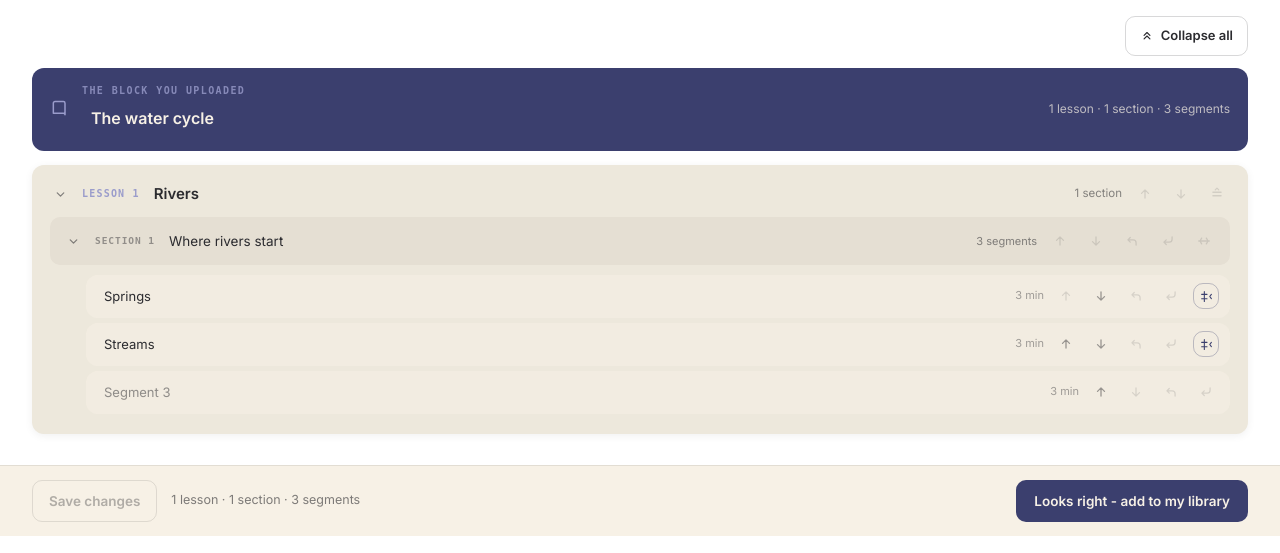
Test: the unit's own title (T73) › comes back with an undo
Replace the text in the field named "Unit title" with "Water on the move" at (559, 118), box [82,100,1037,136]
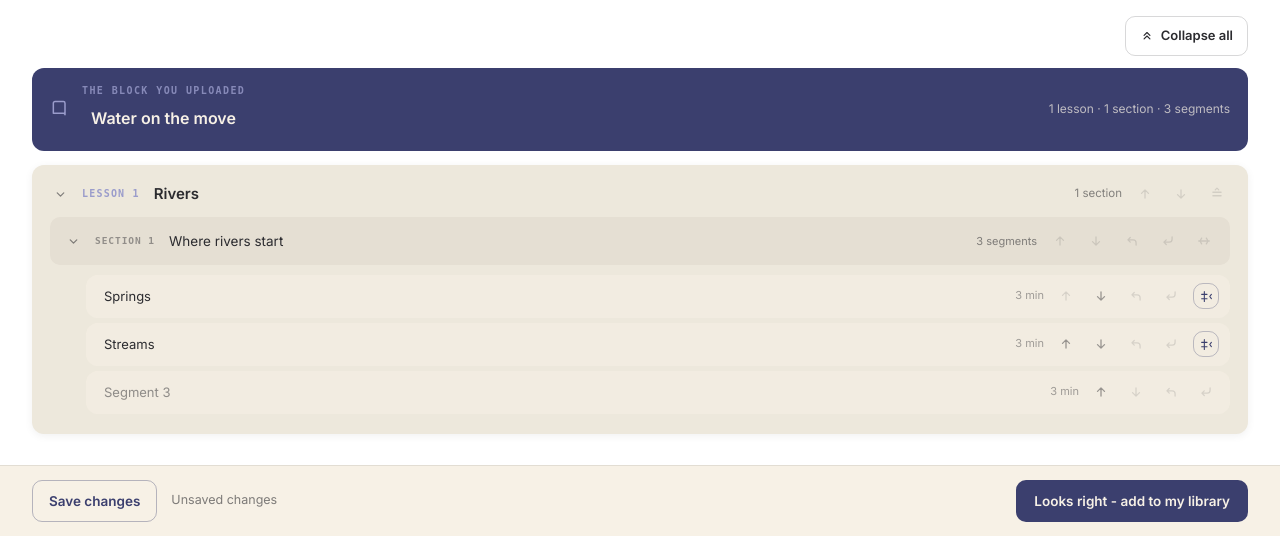
Click the button "Save changes" at (95, 501), box [32,480,157,522]
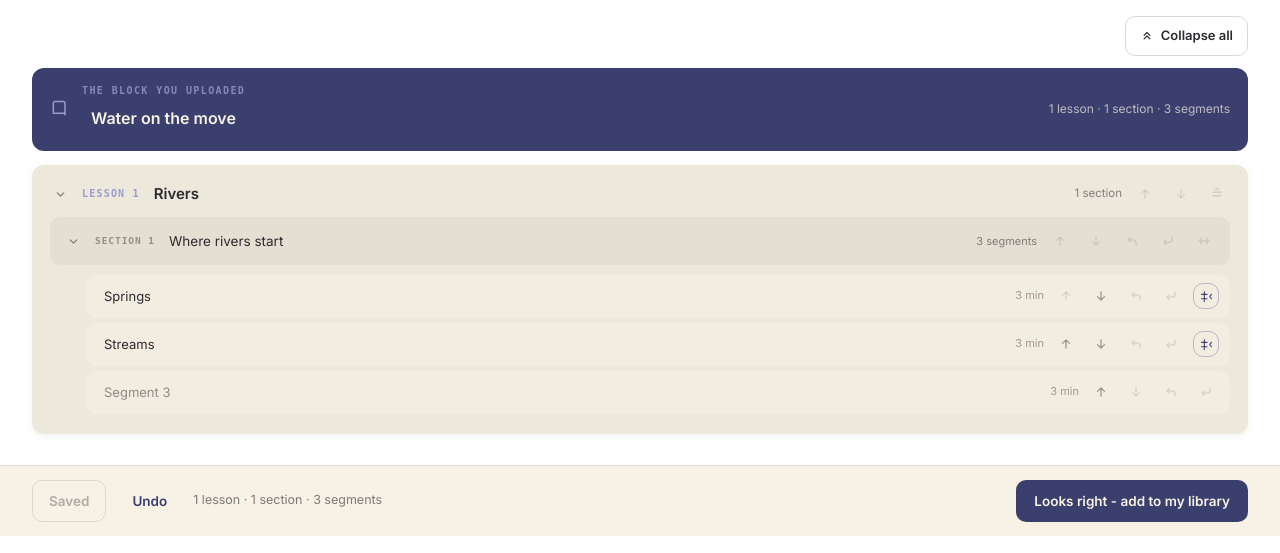
Click the button "Undo" at (150, 501), box [120,480,179,522]
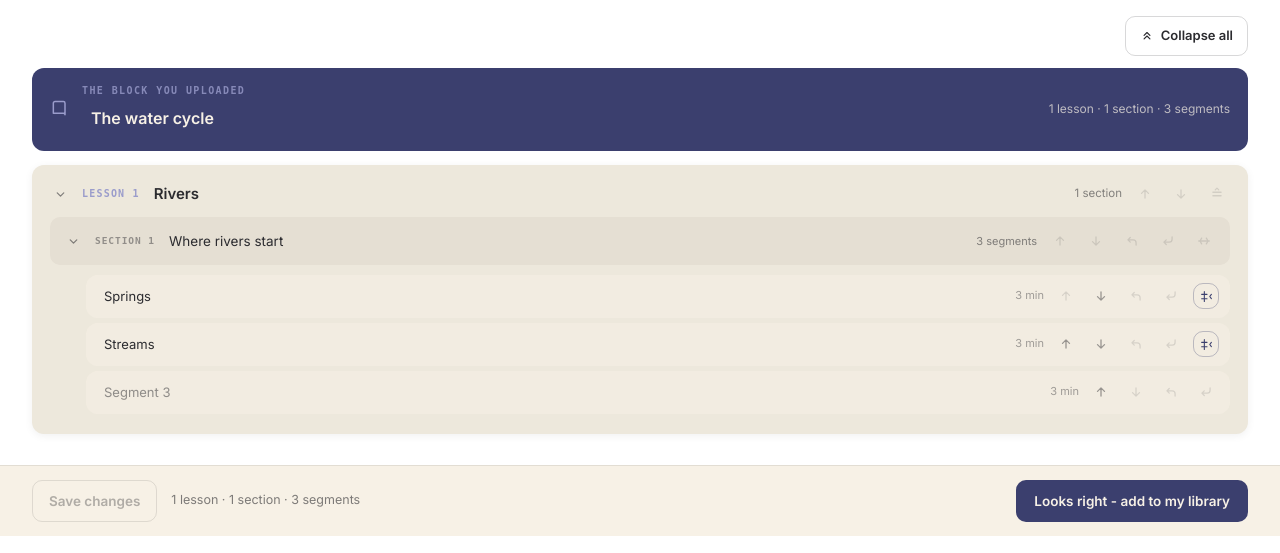
expect the field named "Unit title" holds "The water cycle": met, box [82,100,1037,136]
